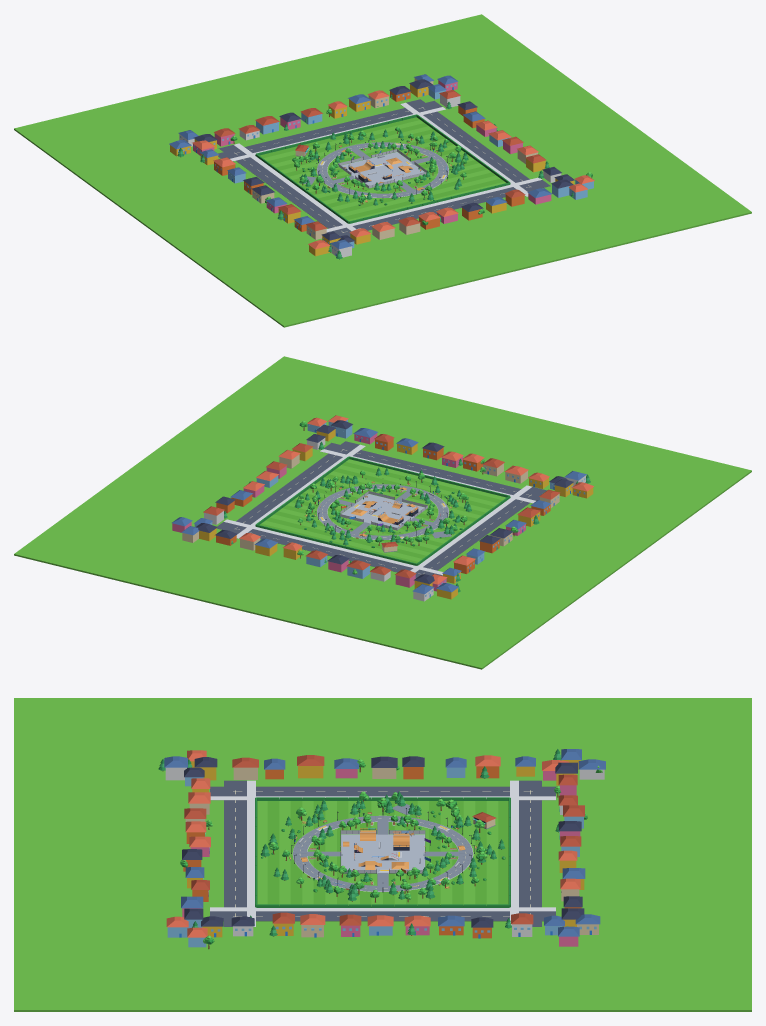
The model's file is community_park.glb.
3 views of the same model, one above another, from view 1: azimuth 30°, elevation 25°; view 2: azimuth 150°, elevation 25°; view 3: azimuth 270°, elevation 25° (orthographic). The views are drawn at different scales.
Visible parts, largest first — view 1: Grass_Ground-col, Road_01, Road_03, Road_04, Path_Ring-col, Road_02, Concrete_Plaza-col, Sidewalk_02, Stripe_02, Sidewalk_04, Stripe_11, Stripe_12 (+2 smaller); view 2: Grass_Ground-col, Road_02, Road_03, Road_04, Path_Ring-col, Road_01, Concrete_Plaza-col, Sidewalk_01, Stripe_02, Sidewalk_04, Stripe_11, Stripe_03 (+1 smaller); view 3: Grass_Ground-col, Road_04, Road_02, Road_01, Path_Ring-col, Road_03, Concrete_Plaza-col, Sidewalk_03, Stripe_02, Sidewalk_02, Sidewalk_01, Stripe_12 (+7 smaller).
Part boxes in pixels (x1=…): Grass_Ground-col: x1=14, y1=14, x2=751, y2=327; Road_01: x1=218, y1=100, x2=442, y2=158; Road_03: x1=406, y1=99, x2=541, y2=191; Road_04: x1=219, y1=145, x2=351, y2=236; Path_Ring-col: x1=317, y1=142, x2=448, y2=197; Road_02: x1=326, y1=180, x2=550, y2=236; Concrete_Plaza-col: x1=341, y1=152, x2=424, y2=185; Sidewalk_02: x1=326, y1=177, x2=541, y2=232; Stripe_02: x1=343, y1=178, x2=504, y2=219; Sidewalk_04: x1=233, y1=143, x2=356, y2=231; Stripe_11: x1=267, y1=123, x2=428, y2=164; Stripe_12: x1=259, y1=117, x2=419, y2=158; Grass_Ground-col: x1=14, y1=356, x2=751, y2=669; Road_02: x1=324, y1=442, x2=541, y2=500; Road_03: x1=224, y1=441, x2=359, y2=533; Road_04: x1=415, y1=487, x2=546, y2=578; Path_Ring-col: x1=317, y1=484, x2=448, y2=539; Road_01: x1=216, y1=522, x2=442, y2=577; Concrete_Plaza-col: x1=341, y1=494, x2=424, y2=527; Sidewalk_01: x1=224, y1=519, x2=443, y2=575; Stripe_02: x1=342, y1=462, x2=502, y2=503; Sidewalk_04: x1=410, y1=485, x2=532, y2=572; Stripe_11: x1=266, y1=517, x2=426, y2=558; Stripe_03: x1=333, y1=468, x2=494, y2=509; Grass_Ground-col: x1=14, y1=698, x2=751, y2=1011; Road_04: x1=210, y1=786, x2=555, y2=796; Road_02: x1=224, y1=780, x2=246, y2=926; Road_01: x1=519, y1=780, x2=541, y2=926; Path_Ring-col: x1=292, y1=815, x2=473, y2=891; Road_03: x1=210, y1=911, x2=555, y2=921; Concrete_Plaza-col: x1=341, y1=834, x2=424, y2=873; Sidewalk_03: x1=210, y1=907, x2=555, y2=911; Stripe_02: x1=267, y1=801, x2=279, y2=905; Sidewalk_02: x1=247, y1=780, x2=255, y2=926; Sidewalk_01: x1=510, y1=780, x2=518, y2=925; Stripe_12: x1=498, y1=801, x2=508, y2=904.
Size of what is drawn, in the model's own units: 320 by 9.4 by 320.
